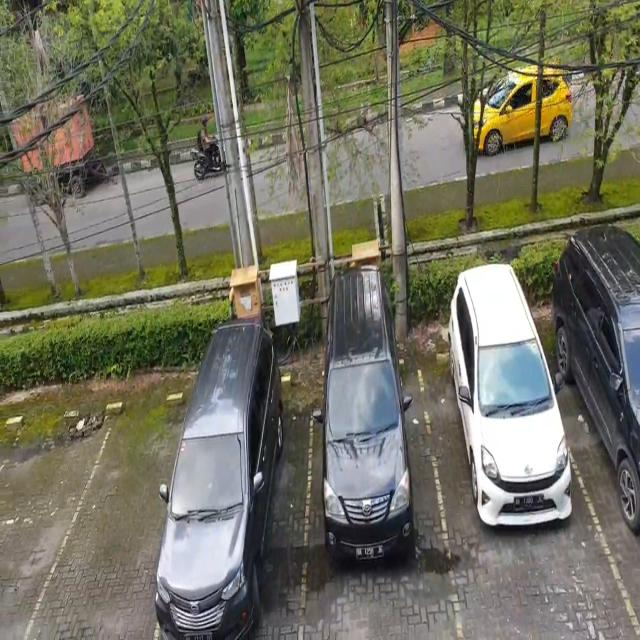empty: (64, 403, 160, 639), (0, 410, 78, 639)
occupied: (153, 375, 310, 640), (440, 326, 578, 596), (304, 342, 438, 611)
